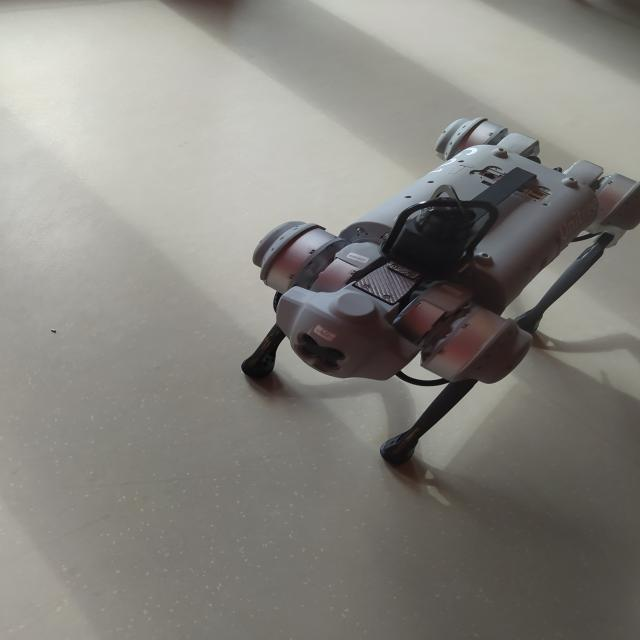unitree-go1-robot: (222, 100, 640, 484)
